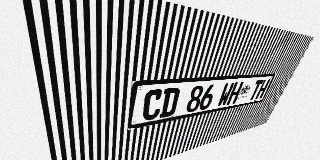6: (198, 84, 217, 111)
8: (185, 85, 205, 113)
C: (141, 89, 164, 122)
D: (159, 87, 181, 118)
H: (226, 82, 244, 105), (255, 79, 270, 99)
T: (247, 80, 264, 101)
W: (216, 82, 235, 107)
